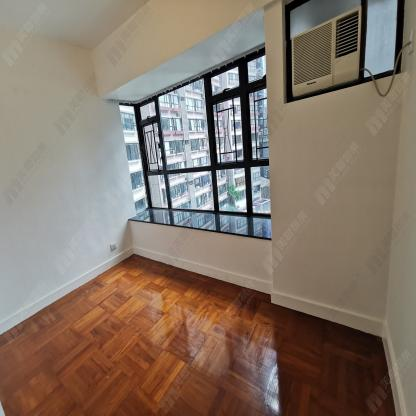AC: (291, 5, 362, 98)
Windowsill: (100, 5, 272, 240)
